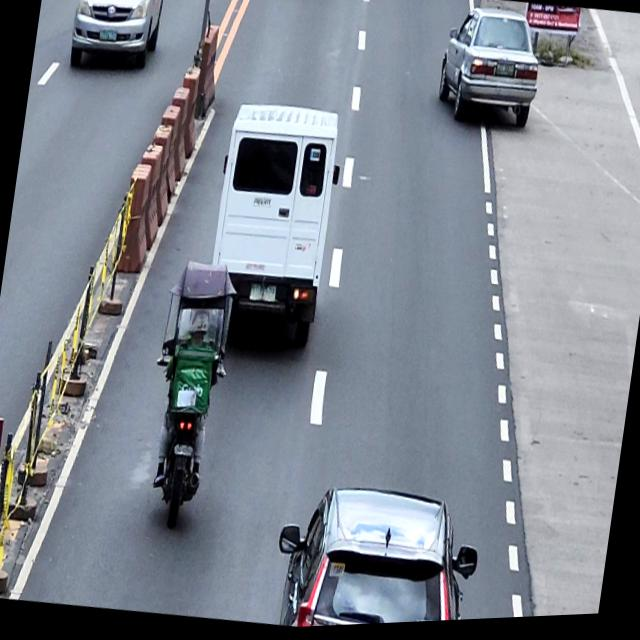Car: (199, 98, 350, 357), (267, 473, 488, 631), (433, 5, 550, 142), (63, 0, 170, 86)
License-Plate: (248, 285, 278, 308), (172, 443, 195, 460), (494, 66, 516, 82), (98, 29, 119, 44)
Motorcycle: (134, 338, 230, 537)
